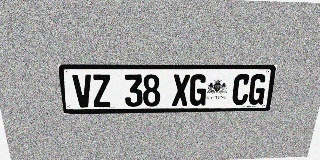3: (124, 74, 142, 107)
8: (143, 74, 160, 107)
C: (231, 74, 251, 105)
G: (247, 74, 268, 105), (189, 74, 208, 106)
V: (72, 74, 93, 108)
X: (172, 74, 190, 106)
Z: (91, 74, 111, 107)
